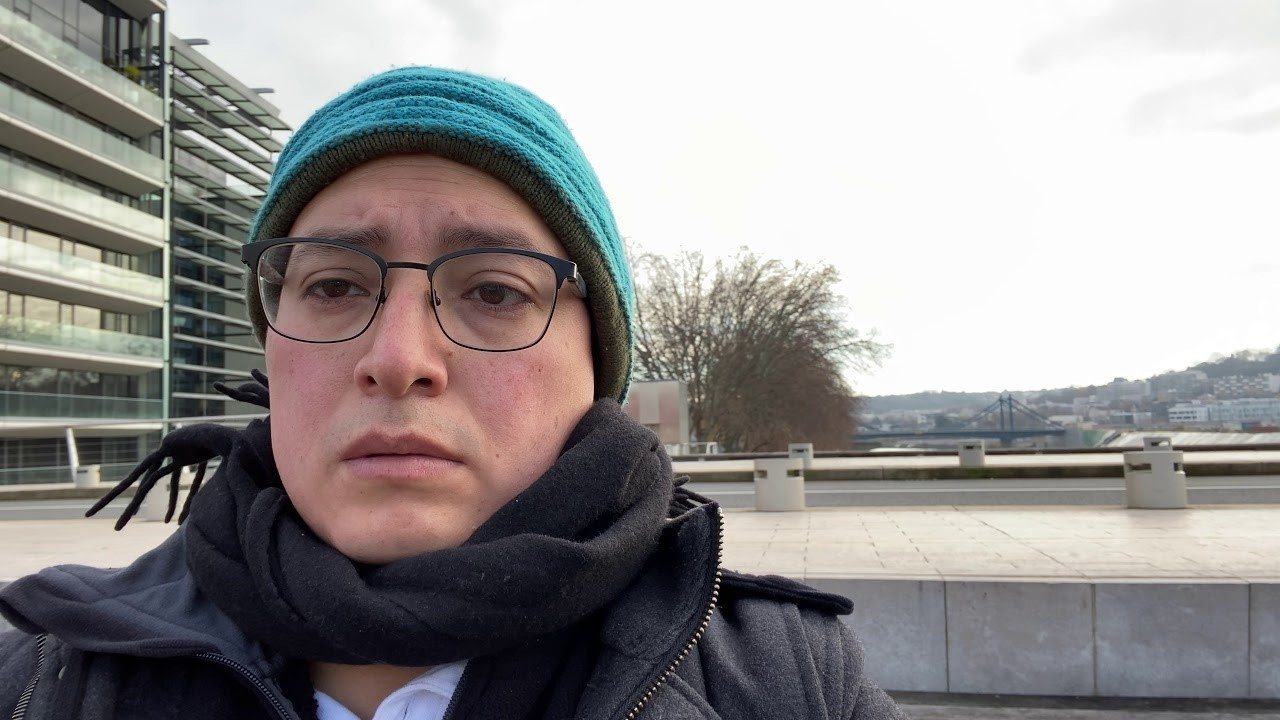face_no_mask: (246, 147, 606, 544)
